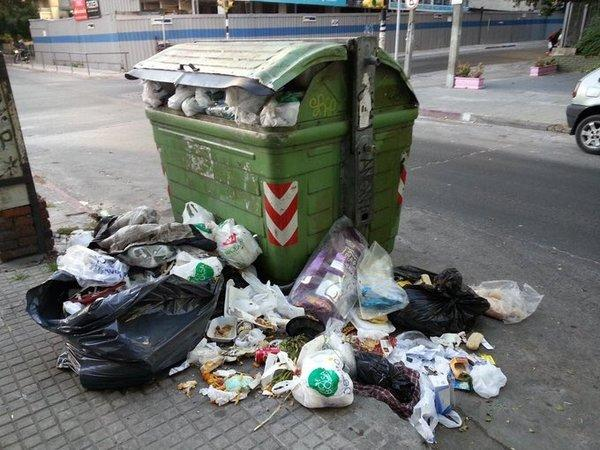Dechets: (26, 208, 542, 447), (27, 268, 223, 389), (288, 217, 408, 337), (141, 78, 299, 127), (394, 265, 437, 287)
Trash: (125, 36, 418, 282)
